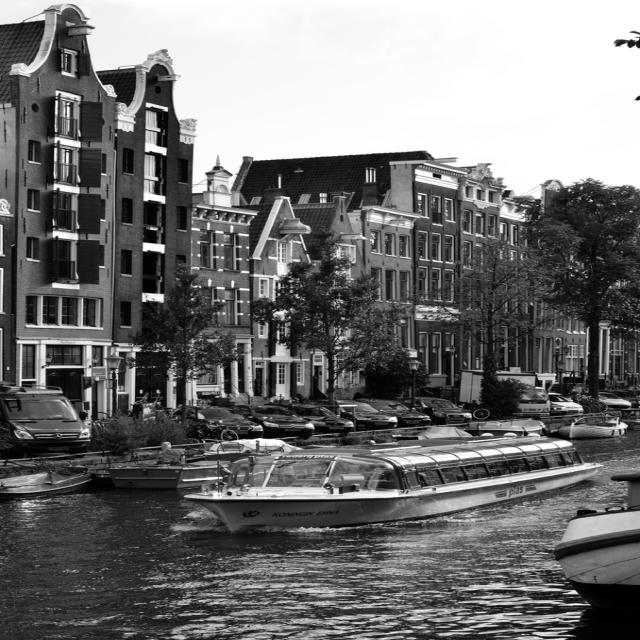car: (5, 386, 92, 458), (544, 389, 585, 413), (592, 385, 627, 408)
